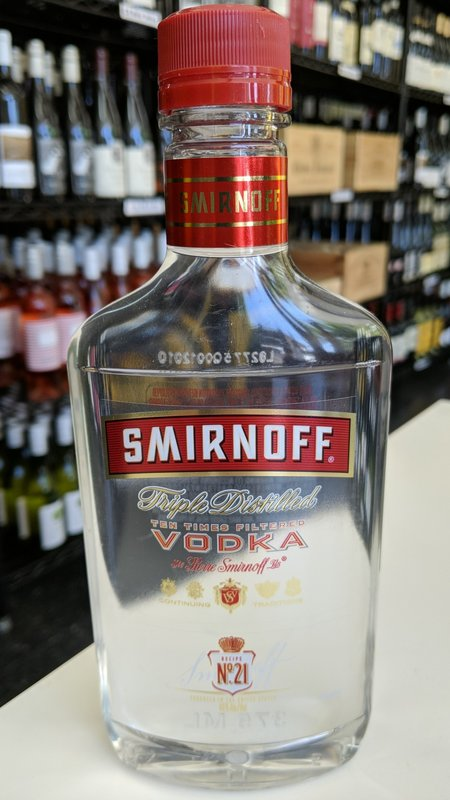Smirnoff: (55, 1, 410, 800)
